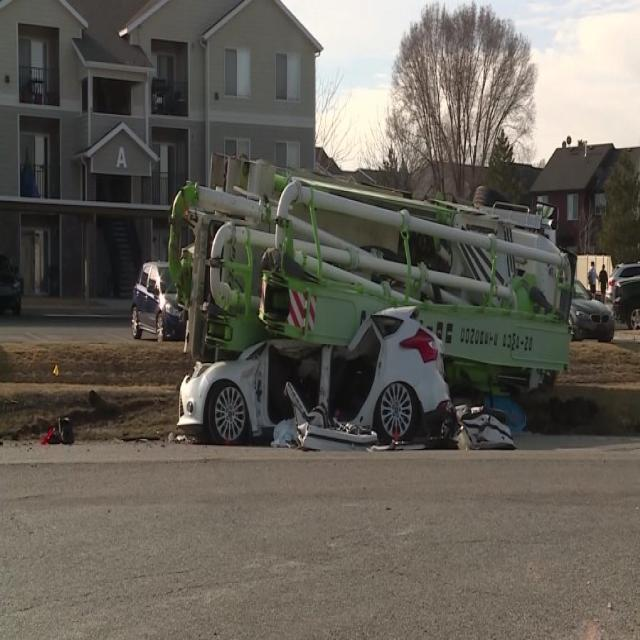Accident: (169, 152, 570, 453)
